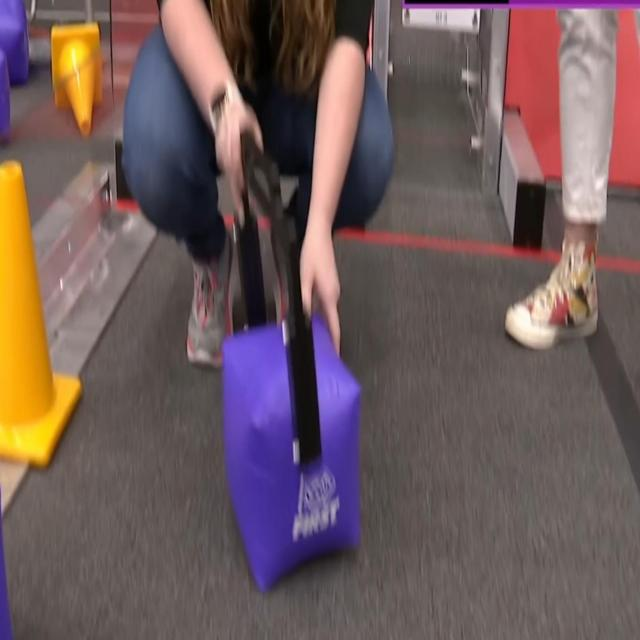frc_cone: (0, 159, 85, 469), (50, 21, 108, 135)
frc_cube: (224, 315, 362, 586), (0, 483, 21, 638), (0, 4, 29, 86), (0, 48, 15, 135)
